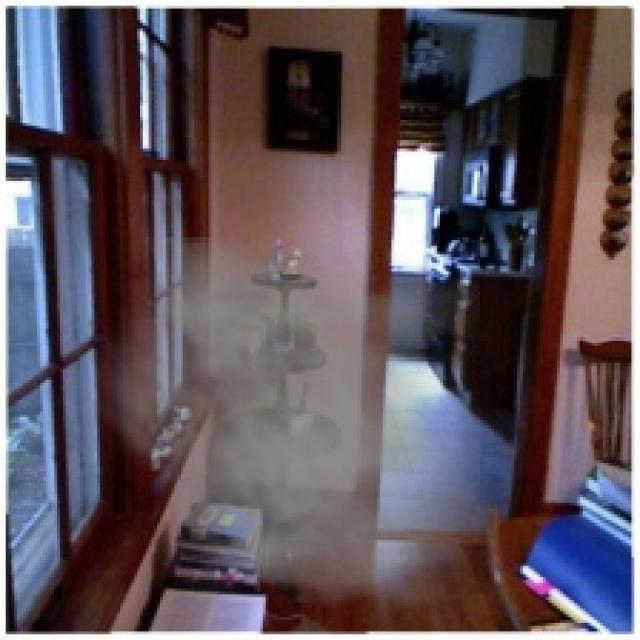Smoke: (83, 237, 480, 609)
